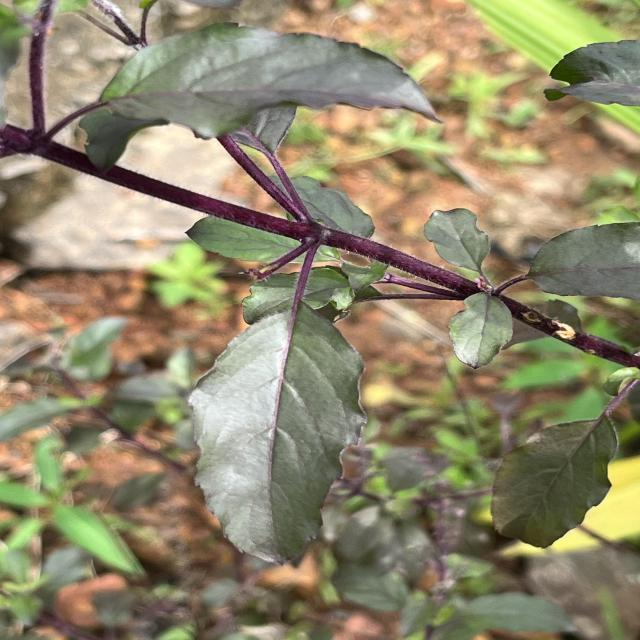Ocimum tenuiflorum: (184, 303, 370, 571)
